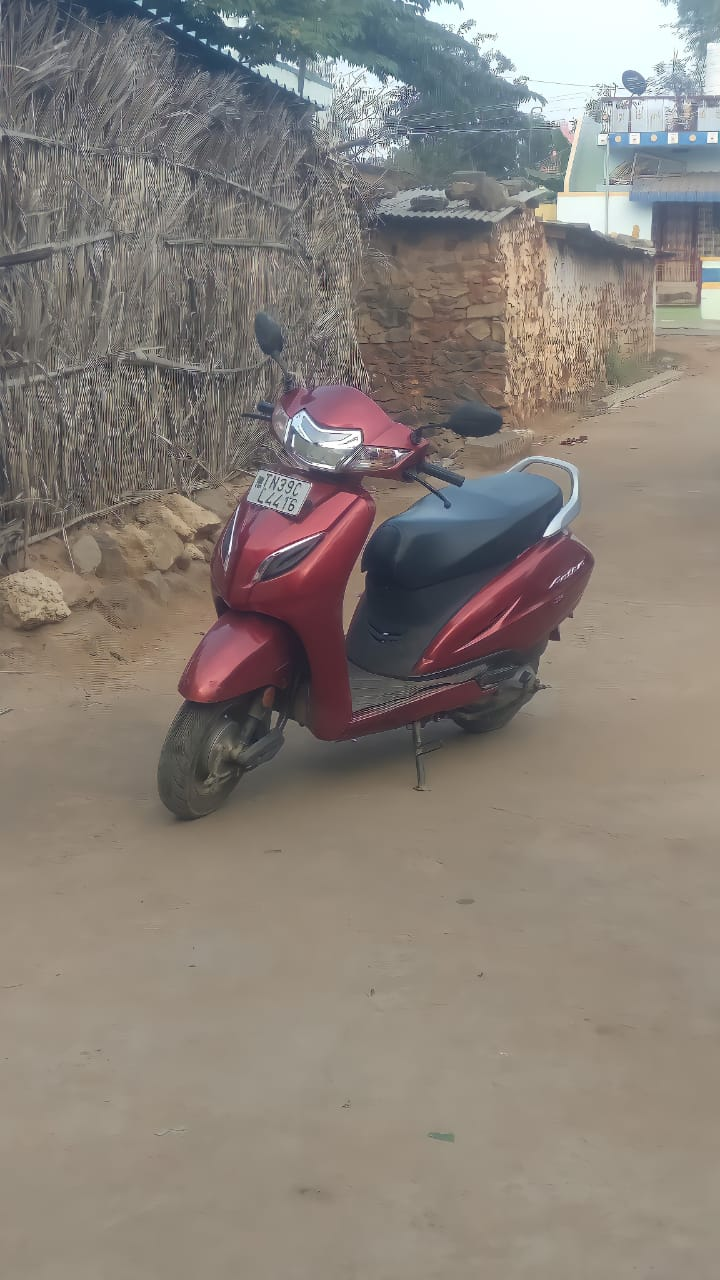numberplate: (240, 459, 319, 520)
scooter: (142, 322, 636, 846)
